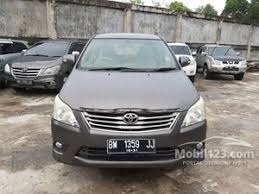plate: (107, 139, 155, 152)
